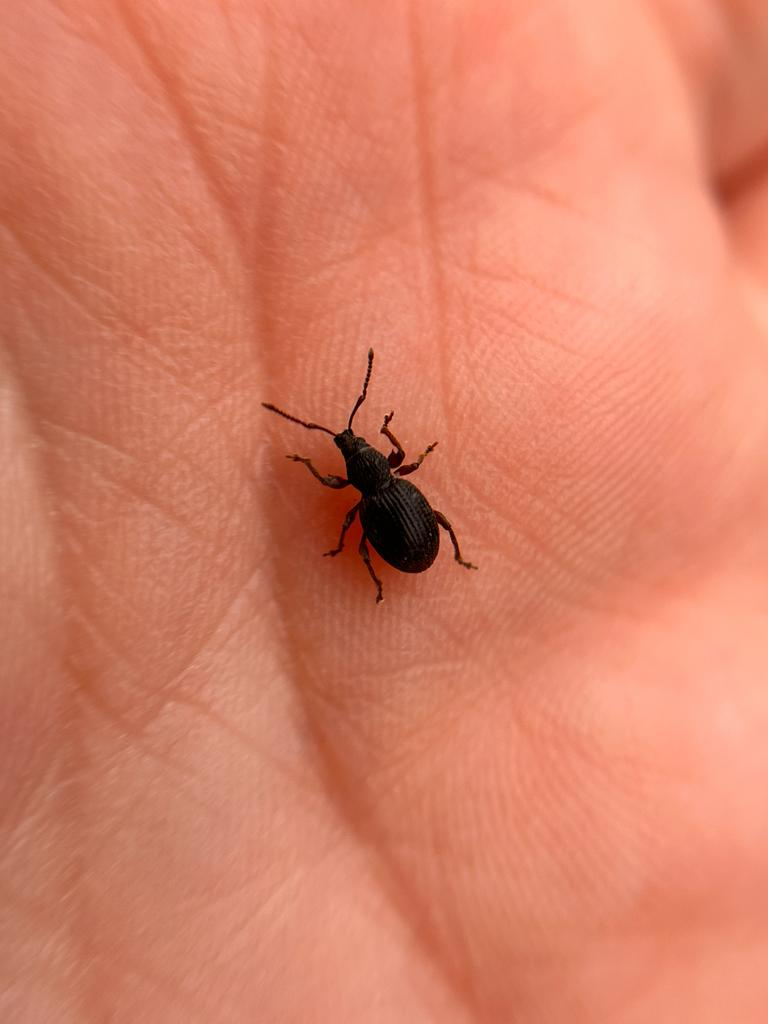weevils: (207, 314, 543, 646)
